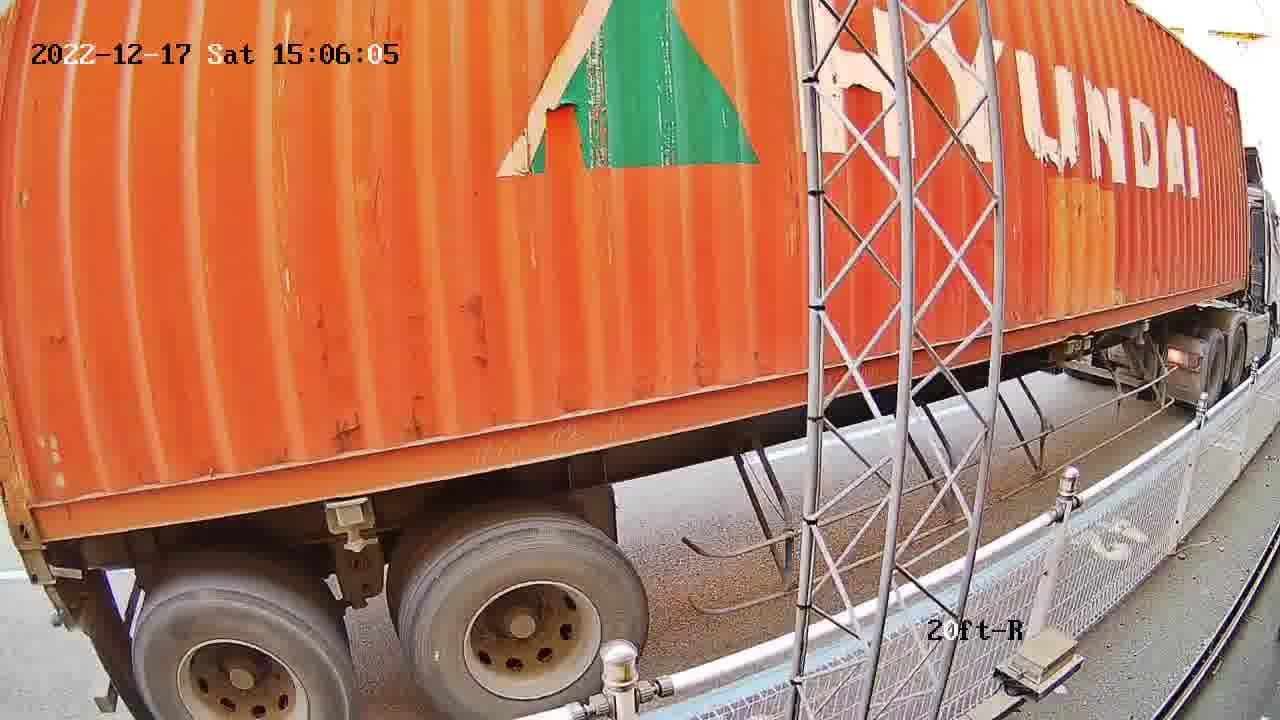Cone: (18, 546, 66, 588)
Hole_L: (0, 471, 87, 549)
Tire: (408, 526, 651, 719), (133, 591, 347, 719)
